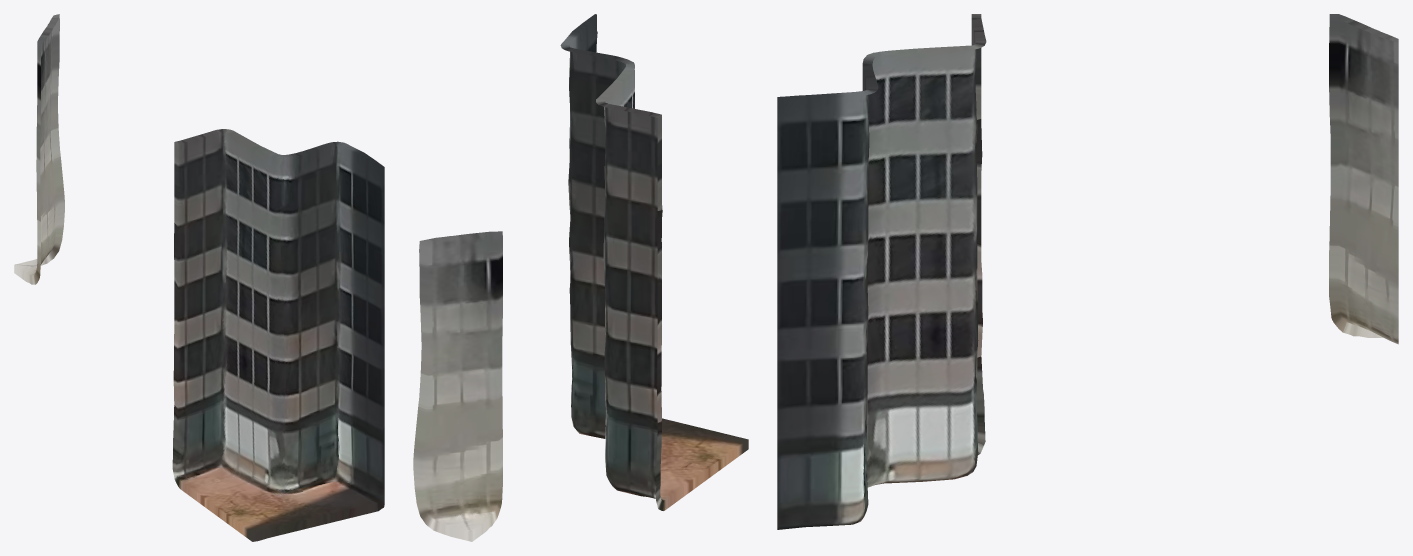
File: z20-167775-405234-h0-yup-uvflip-v3-world.glb
3 views of the same model, side by side, from view 1: azimuth 30°, elevation 25°; view 2: azimuth 150°, elevation 25°; view 3: azimuth 270°, elevation 25° (orthographic). The views are drawn at different scales.
Bounding box in the file's own units: 9.72 × 24.12 × 30.32.
1 material, 1 textured.
